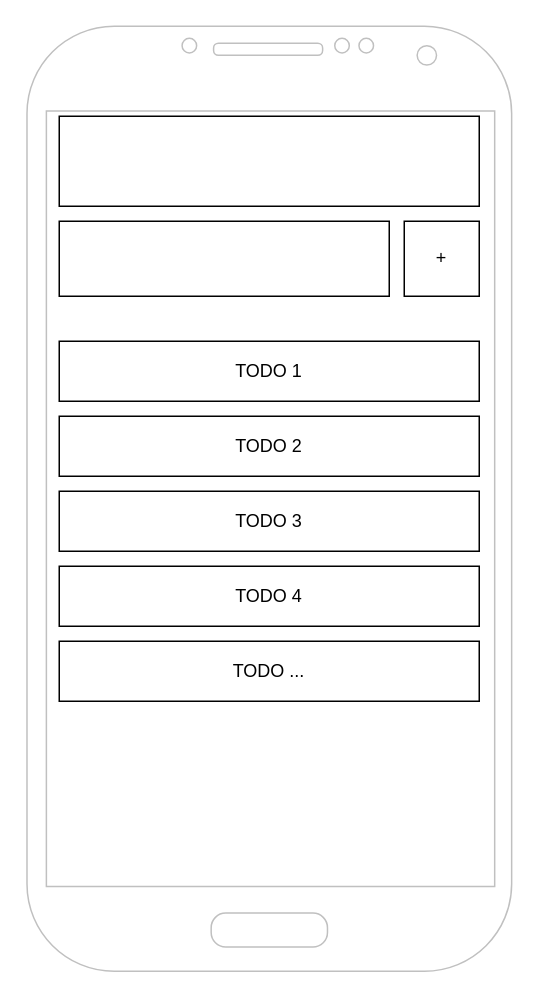
This 539x998 diagram has some shape labels left out. The shapes that lost their labels are listed below. From the top down, each one's centre as x and y in pixels, then its label:
(268,160): NavBar
(223,258): TODO title
